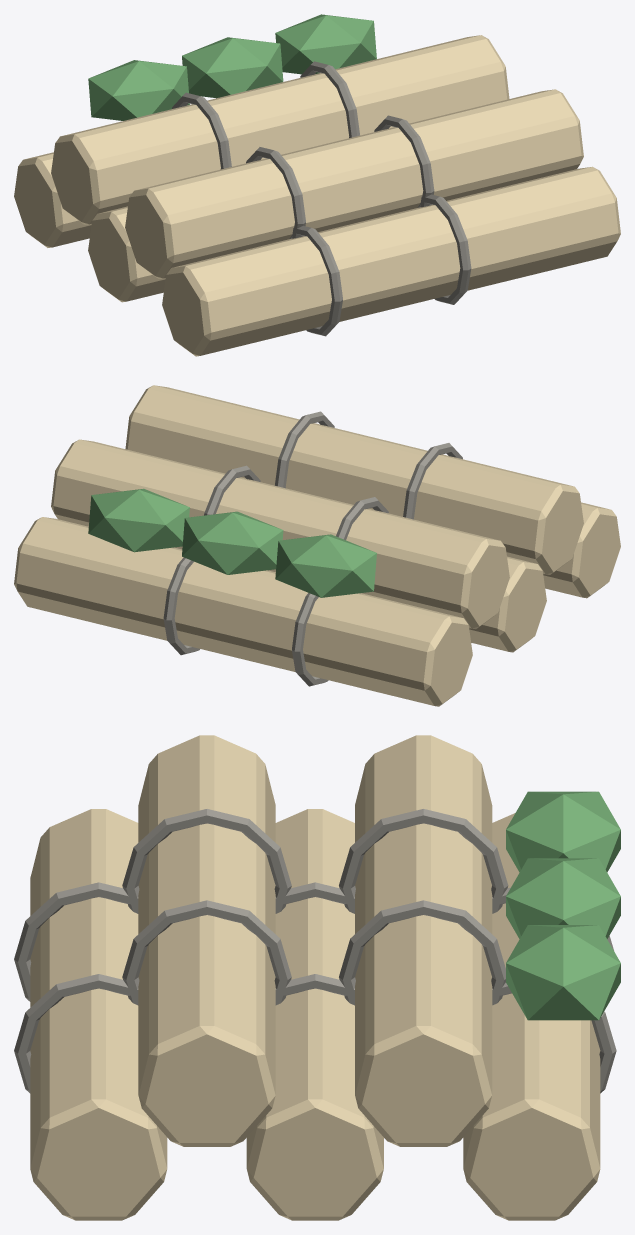
Rendered from old_wood_birch_grove.glb.
The picture shows the model from 3 angles, top to bottom: view 1: azimuth 30°, elevation 25°; view 2: azimuth 150°, elevation 25°; view 3: azimuth 270°, elevation 25°; orthographic projection. The views are drawn at different scales.
Size of the model in its own units: 1.56 by 0.568 by 1.35.
